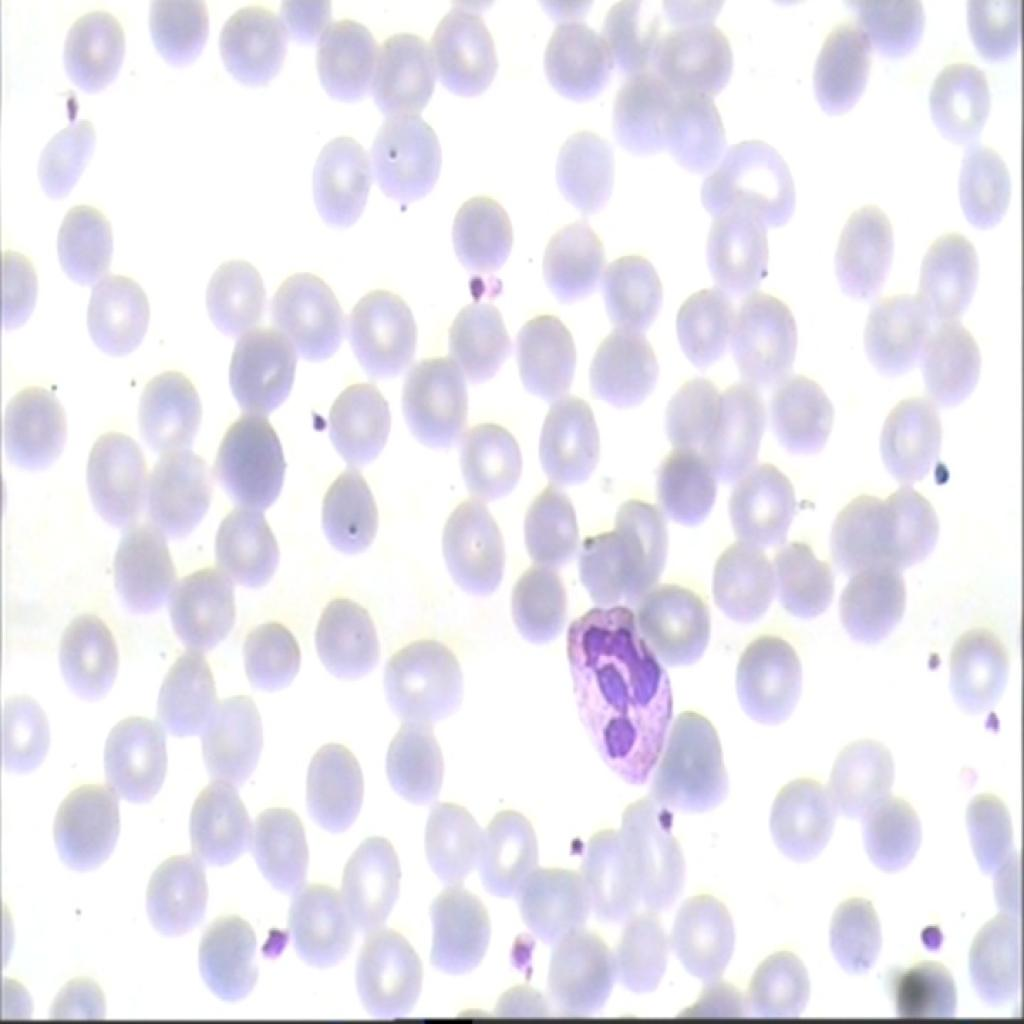Neutrofil: (565, 592, 677, 795)
Platelet: (972, 686, 1012, 754), (253, 906, 290, 972), (57, 73, 88, 140), (640, 795, 688, 832), (906, 628, 943, 676), (500, 923, 534, 974), (306, 400, 341, 448), (456, 263, 495, 304), (555, 816, 587, 864), (910, 914, 947, 954), (928, 442, 954, 492)
